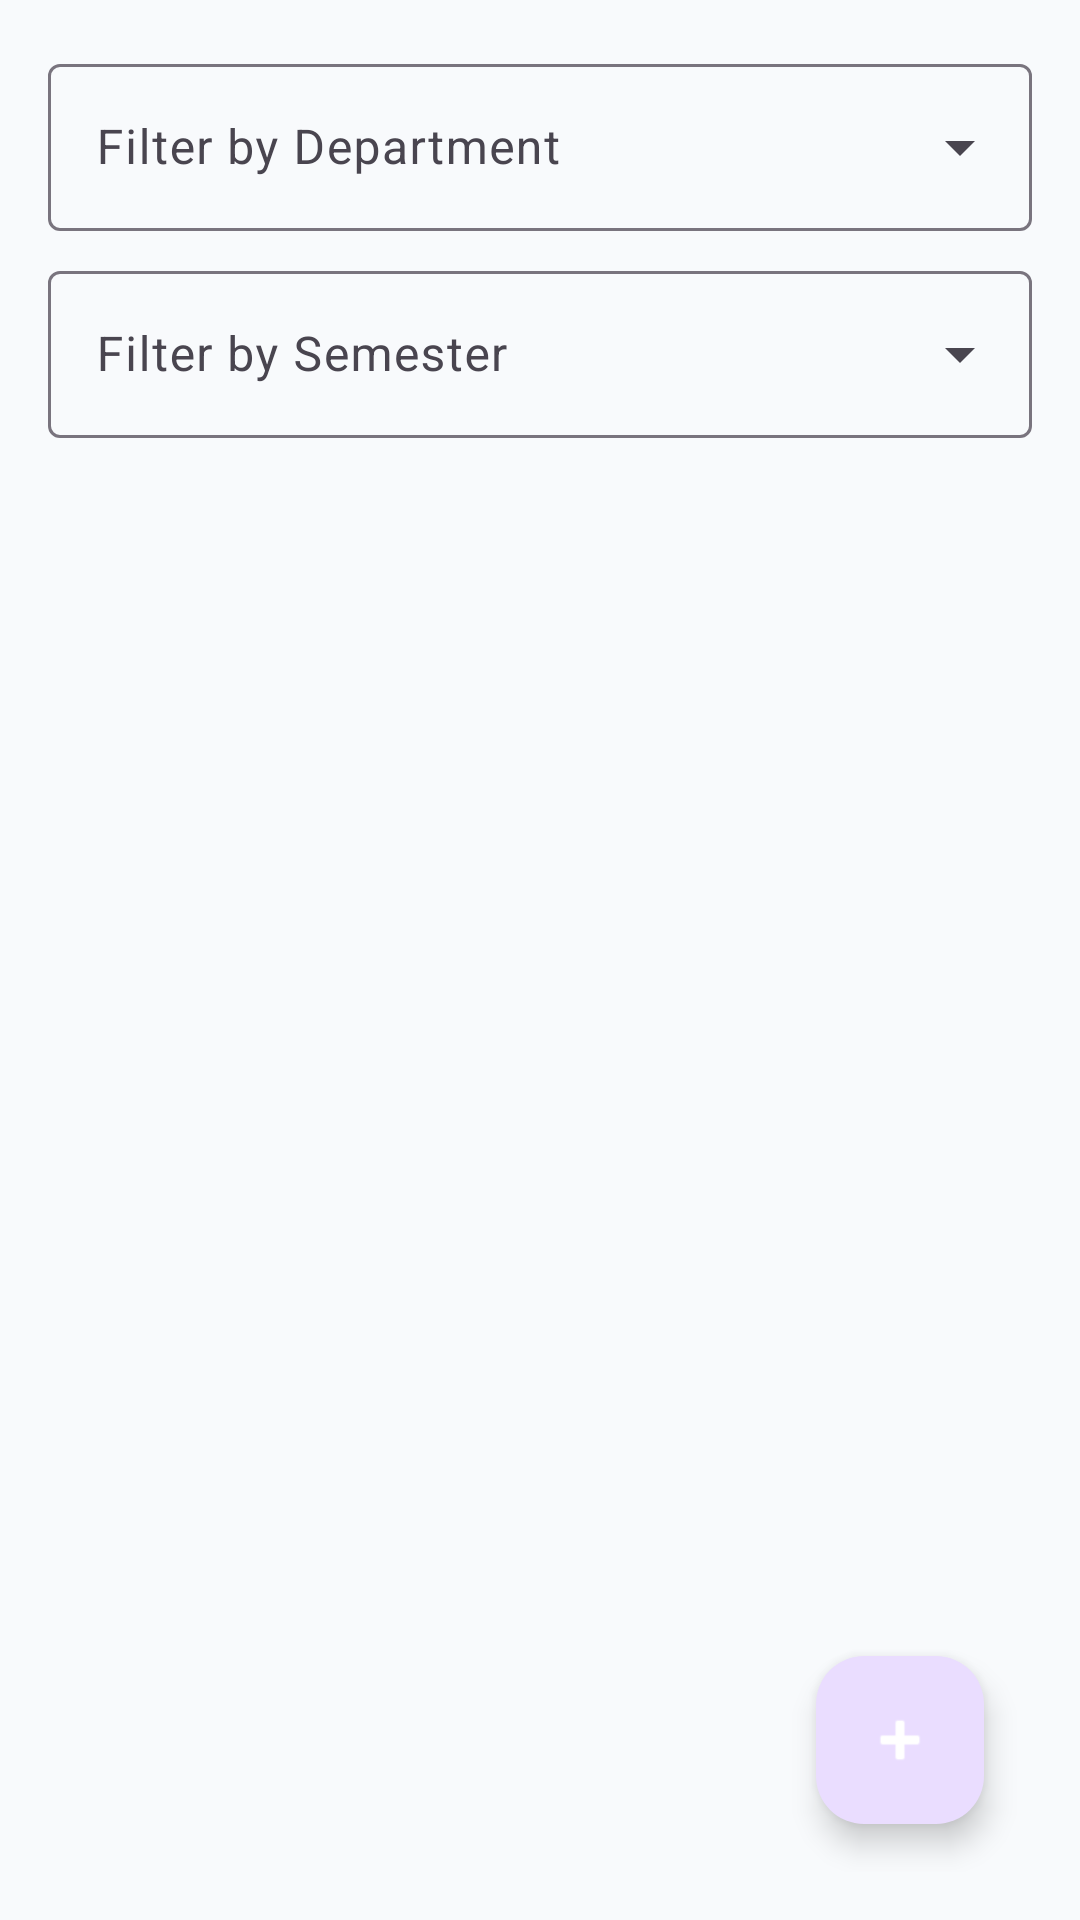

Named icons in this screenshot (1080 × 1920) and their bounding boxes, [x1, y1, x2, y2]:
Add Subject: [816, 1656, 984, 1824]
